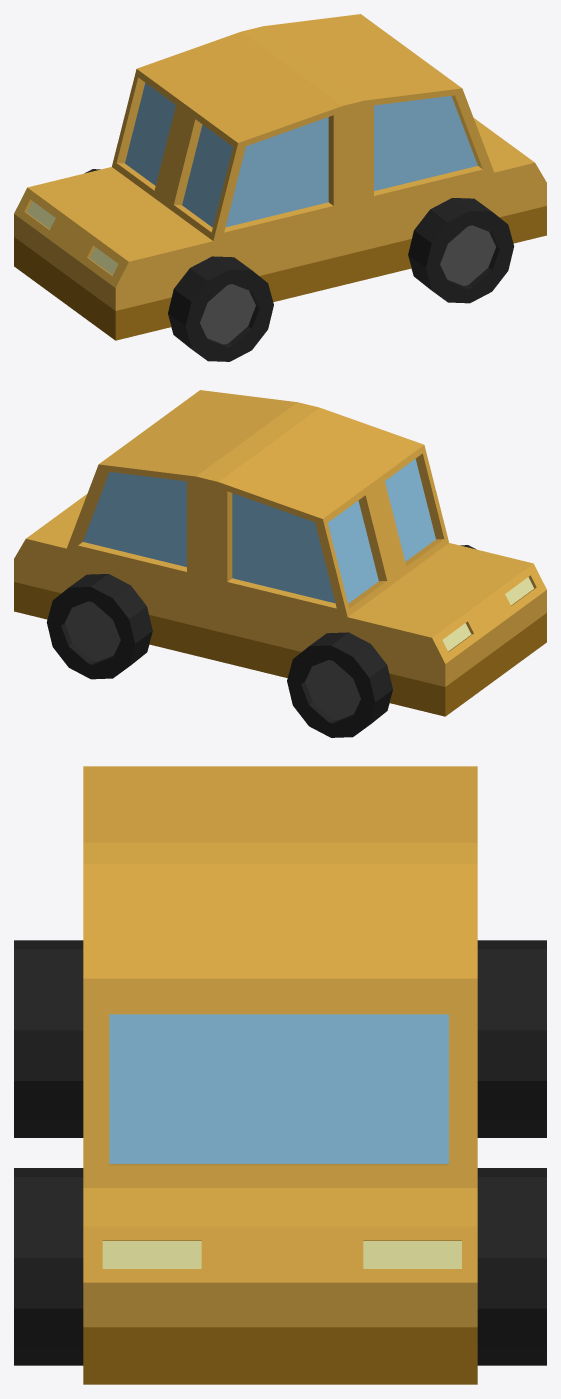
File: CAR03_Model.fbx
3 renders of one model, top to bottom at view 1: azimuth 30°, elevation 25°; view 2: azimuth 150°, elevation 25°; view 3: azimuth 270°, elevation 25°, orthographic. The views are drawn at different scales.
Parts seen in each view (by area): view 1: CAR02.001, WHEELS.002; view 2: CAR02.001, WHEELS.002; view 3: CAR02.001, WHEELS.002.
Boxes of the visible parts, x1,y1,x2,y2 form: CAR02.001: (14, 14, 546, 340); WHEELS.002: (84, 169, 514, 361); CAR02.001: (14, 390, 546, 716); WHEELS.002: (46, 545, 476, 737); CAR02.001: (83, 766, 477, 1384); WHEELS.002: (14, 940, 546, 1365).
Bounding box in the file's own units: 4.9 × 2.29 × 2.7.
